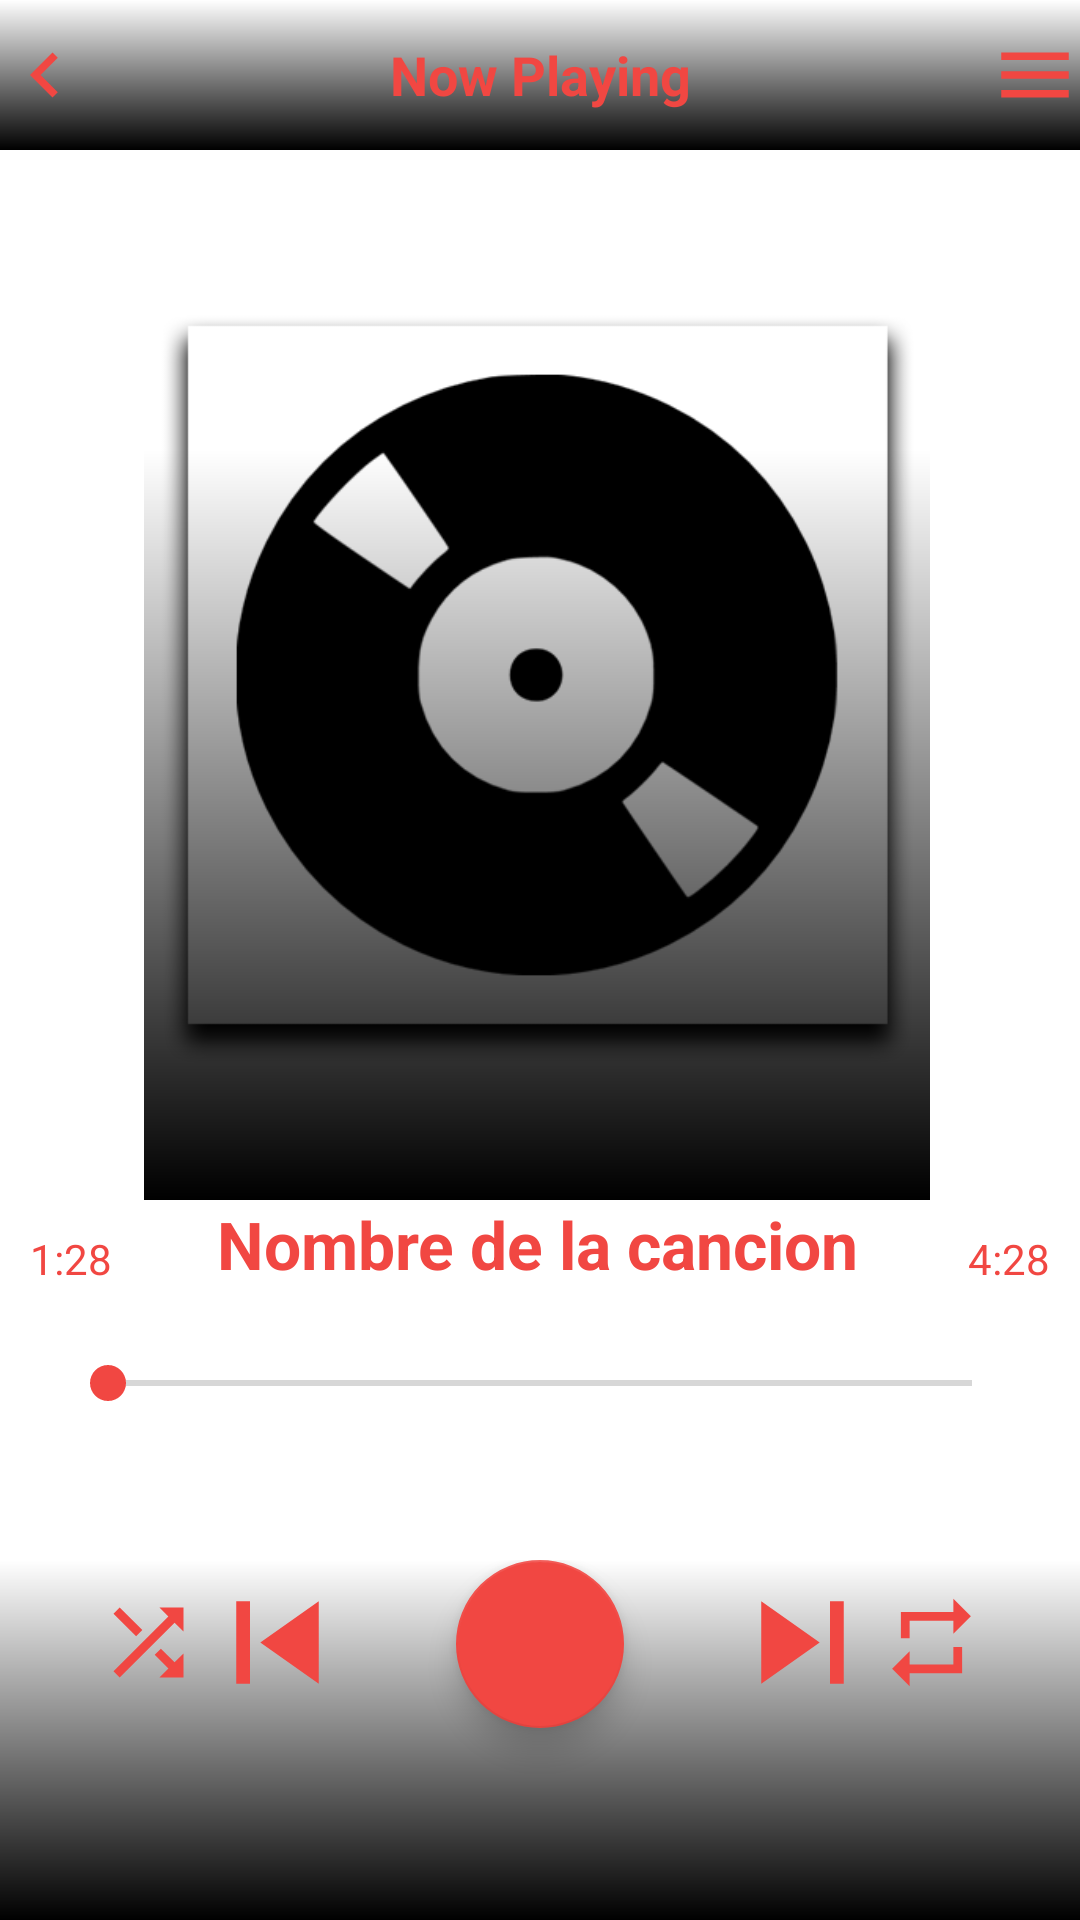

Icon click points for this 1080px×1920px phone screenshot, format [x,y]:
menu: [1035,75]
repeat: [931,1642]
shuffle: [148,1642]
skip next: [802,1642]
skip previous: [277,1642]
